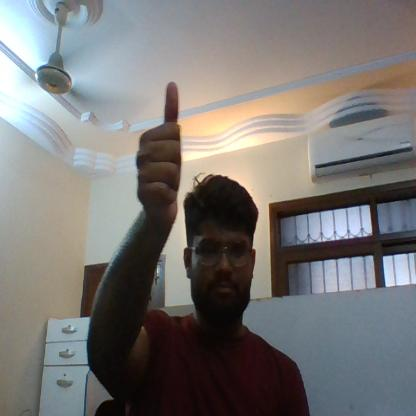thumbs-up: (132, 76, 191, 202)
